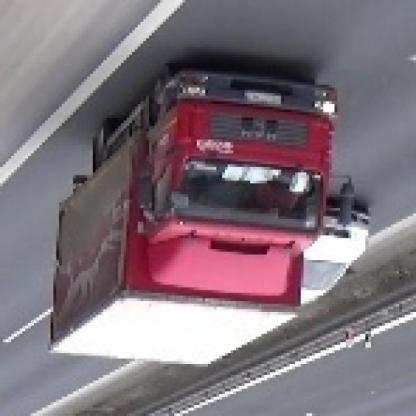truck: (52, 70, 359, 371)
